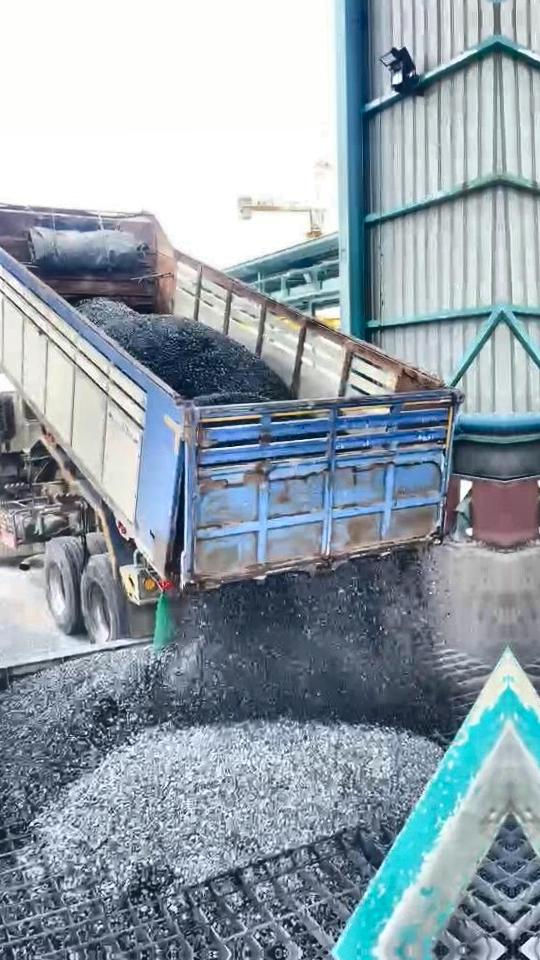gravel: (0, 555, 448, 817), (40, 722, 441, 892), (78, 298, 290, 404)
